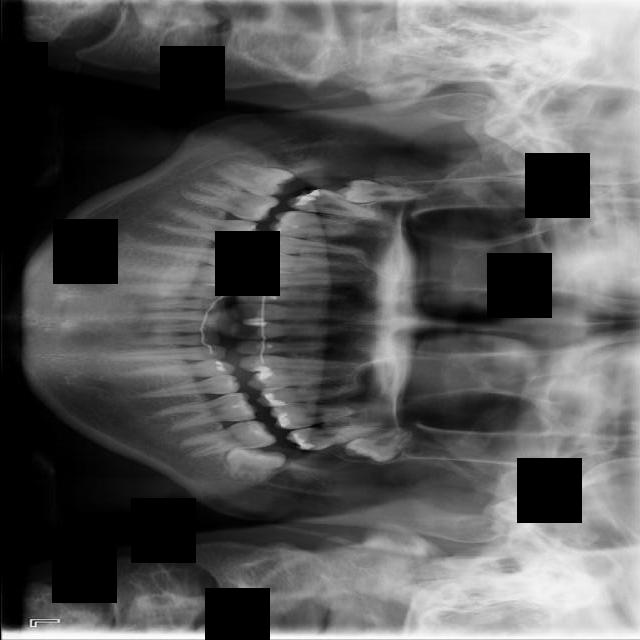3M ESPE Implant: (334, 178, 424, 206)
52: (211, 384, 259, 433), (216, 210, 262, 259), (267, 399, 313, 434), (268, 208, 317, 240), (285, 186, 337, 214), (284, 427, 335, 451), (246, 368, 290, 394), (199, 264, 241, 289), (193, 356, 235, 380), (238, 354, 284, 373), (230, 321, 276, 339), (257, 387, 298, 407), (232, 303, 277, 321), (233, 339, 279, 356), (235, 288, 278, 303)
73: (48, 598, 64, 610)
BioHorizons Implant: (284, 420, 385, 454)
BioLife Implant: (341, 423, 417, 472)
Biomet 3i Implant: (221, 441, 286, 489)
Blue Sky Bio Implant: (179, 416, 278, 460)
Caries: (285, 184, 386, 222)
Implant: (182, 179, 280, 226)
Keystone Dental Implant: (210, 158, 297, 200)
